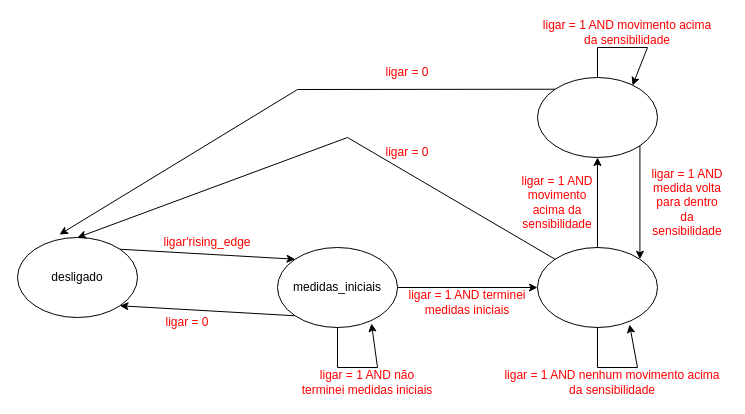
Image size: 745x414. Some labels were removed from this diagram. The centre of each missing label's shape, as x and y in pixels:
"modo_alerta" goes at (597,117).
"modo_seguranca" goes at (597,287).
